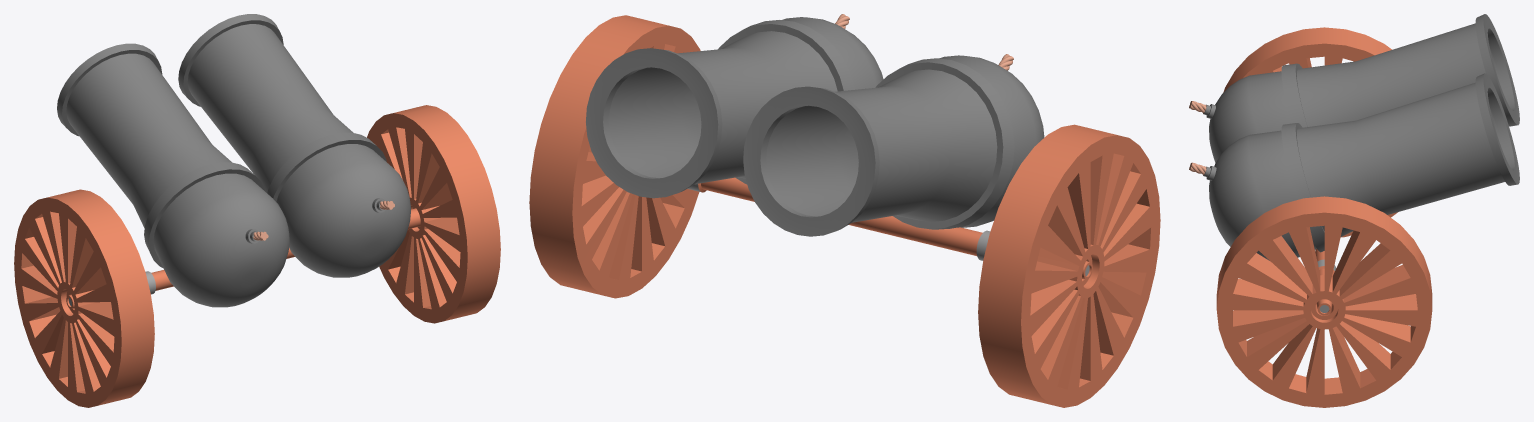
Rendered from DoubleCannon.fbx.
3 renders of one model, left to right at view 1: azimuth 30°, elevation 25°; view 2: azimuth 150°, elevation 25°; view 3: azimuth 270°, elevation 25°, orthographic. The views are drawn at different scales.
Visible parts, largest first — view 1: Cylinder, Cylinder.004, Cylinder.001; view 2: Cylinder, Cylinder.004, Cylinder.001; view 3: Cylinder, Cylinder.001, Cylinder.004.
Part boxes in pixels (x1=…): Cylinder: x1=14, y1=105, x2=500, y2=407; Cylinder.004: x1=57, y1=43, x2=289, y2=307; Cylinder.001: x1=178, y1=14, x2=410, y2=277; Cylinder: x1=529, y1=15, x2=1160, y2=407; Cylinder.004: x1=743, y1=55, x2=1044, y2=236; Cylinder.001: x1=586, y1=17, x2=883, y2=198; Cylinder: x1=1216, y1=27, x2=1432, y2=407; Cylinder.001: x1=1209, y1=73, x2=1519, y2=260; Cylinder.004: x1=1209, y1=14, x2=1519, y2=162.
Bounding box in the file's own units: 187 × 125 × 141.
